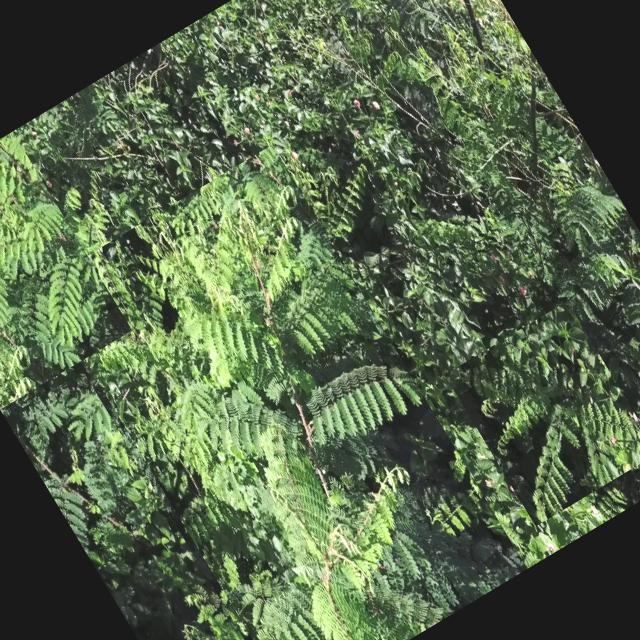Mysore-Thorn-Weed: (40, 144, 528, 640), (5, 371, 288, 640), (367, 0, 596, 228), (445, 301, 640, 526), (0, 131, 132, 408), (521, 169, 640, 387)
